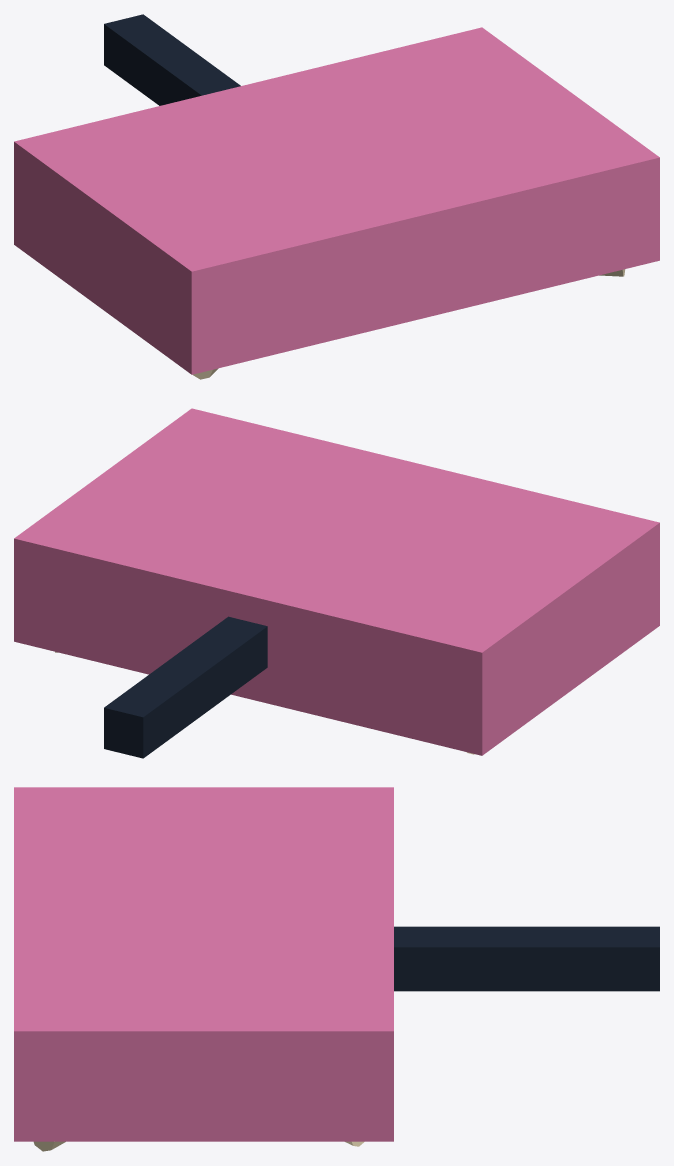
Rendered from link-email.glb.
3 views of the same model, one above another, from view 1: azimuth 30°, elevation 25°; view 2: azimuth 150°, elevation 25°; view 3: azimuth 270°, elevation 25° (orthographic). The views are drawn at different scales.
Parts seen in each view (by area): view 1: cel_pink_link email.001, cel_ink_link email.001; view 2: cel_pink_link email.001, cel_ink_link email.001; view 3: cel_pink_link email.001, cel_ink_link email.001.
Boxes of the visible parts, x1,y1,x2,y2 form: cel_pink_link email.001: [14, 27, 659, 374]; cel_ink_link email.001: [104, 14, 240, 105]; cel_pink_link email.001: [14, 408, 659, 755]; cel_ink_link email.001: [104, 616, 267, 758]; cel_pink_link email.001: [14, 787, 393, 1141]; cel_ink_link email.001: [394, 926, 659, 991].
Bounding box in the file's own units: 1.9 × 0.478 × 2.12.
